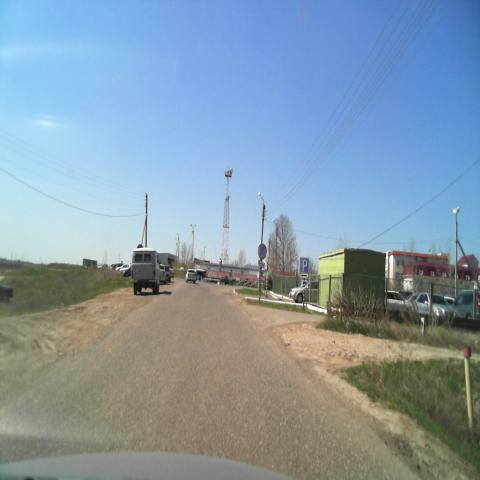6_4: (300, 257, 308, 271)
